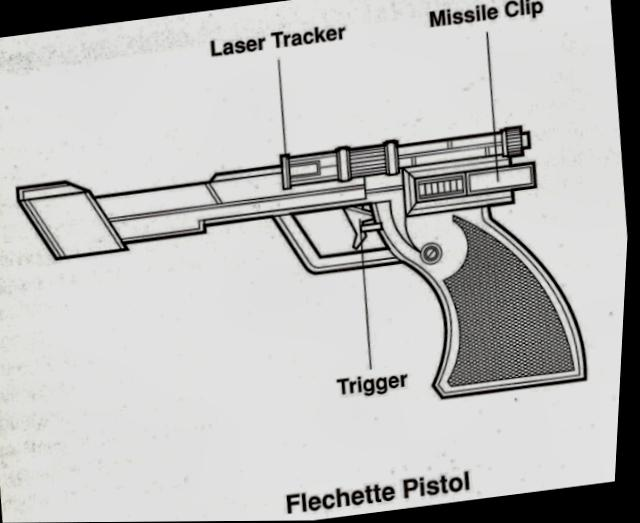pistol: (0, 109, 603, 455)
